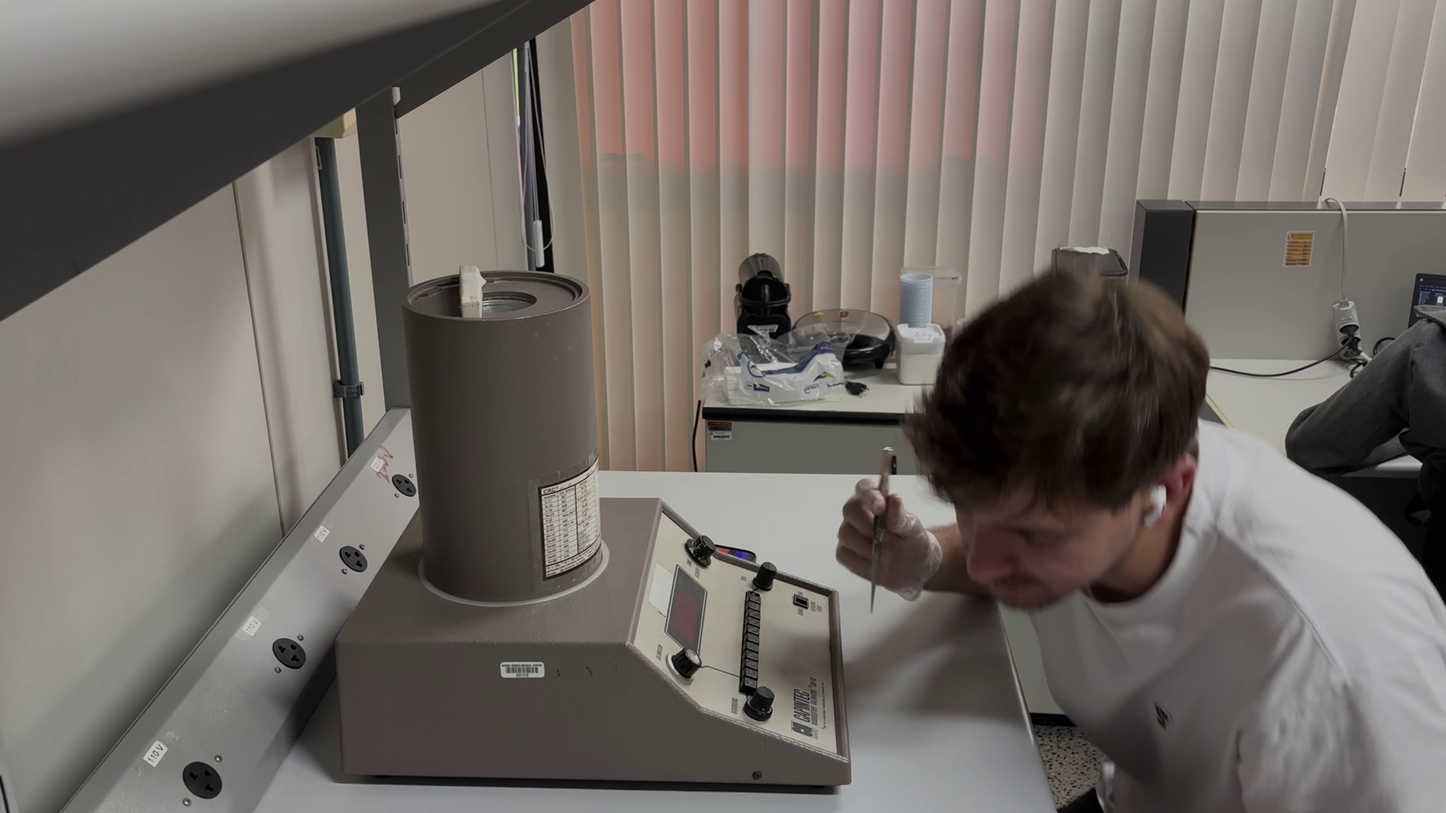Ativimetro: (398, 267, 609, 606)
Com_Luva: (836, 477, 944, 604)
